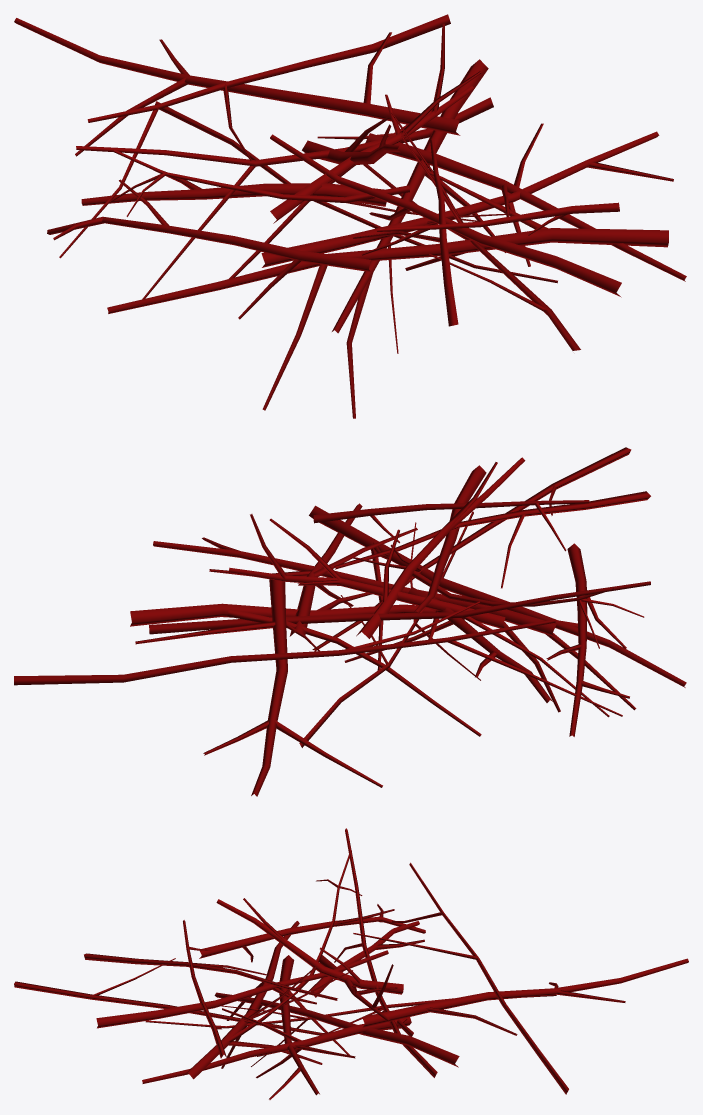
The model's file is branch_pile_c.glb.
3 views of the same model, one above another, from view 1: azimuth 30°, elevation 25°; view 2: azimuth 150°, elevation 25°; view 3: azimuth 270°, elevation 25° (orthographic). The views are drawn at different scales.
Visible parts, largest first — view 1: LOD0; view 2: LOD0; view 3: LOD0.
Boxes of the visible parts, left/top/right/bottom form: LOD0: left=14, top=14, right=686, bottom=418; LOD0: left=14, top=447, right=686, bottom=796; LOD0: left=14, top=828, right=688, bottom=1099.
Size of what is drawn, in the model's own units: 3.16 by 1.44 by 4.69.
